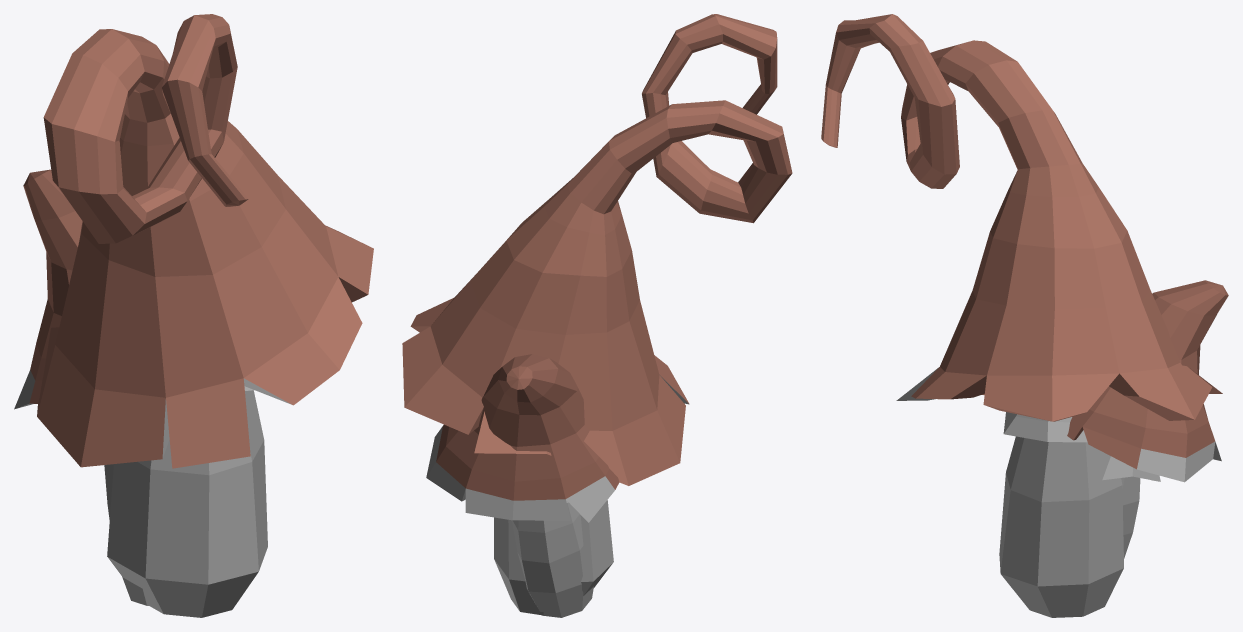
Rendered from Mushrooms.fbx.
3 views of the same model, side by side, from view 1: azimuth 30°, elevation 25°; view 2: azimuth 150°, elevation 25°; view 3: azimuth 270°, elevation 25° (orthographic). The views are drawn at different scales.
Parts seen in each view (by area): view 1: Mushroom_1, Mushroom_2; view 2: Mushroom_1, Mushroom_2; view 3: Mushroom_1, Mushroom_2.
Part boxes in pixels (x1,y1,x2,y2): Mushroom_1: (37, 14, 373, 617); Mushroom_2: (14, 169, 156, 605); Mushroom_1: (402, 14, 792, 615); Mushroom_2: (426, 354, 619, 617); Mushroom_1: (821, 14, 1222, 617); Mushroom_2: (1067, 280, 1228, 558).
Size of the model in its own units: 76.91 by 128 by 85.96.
